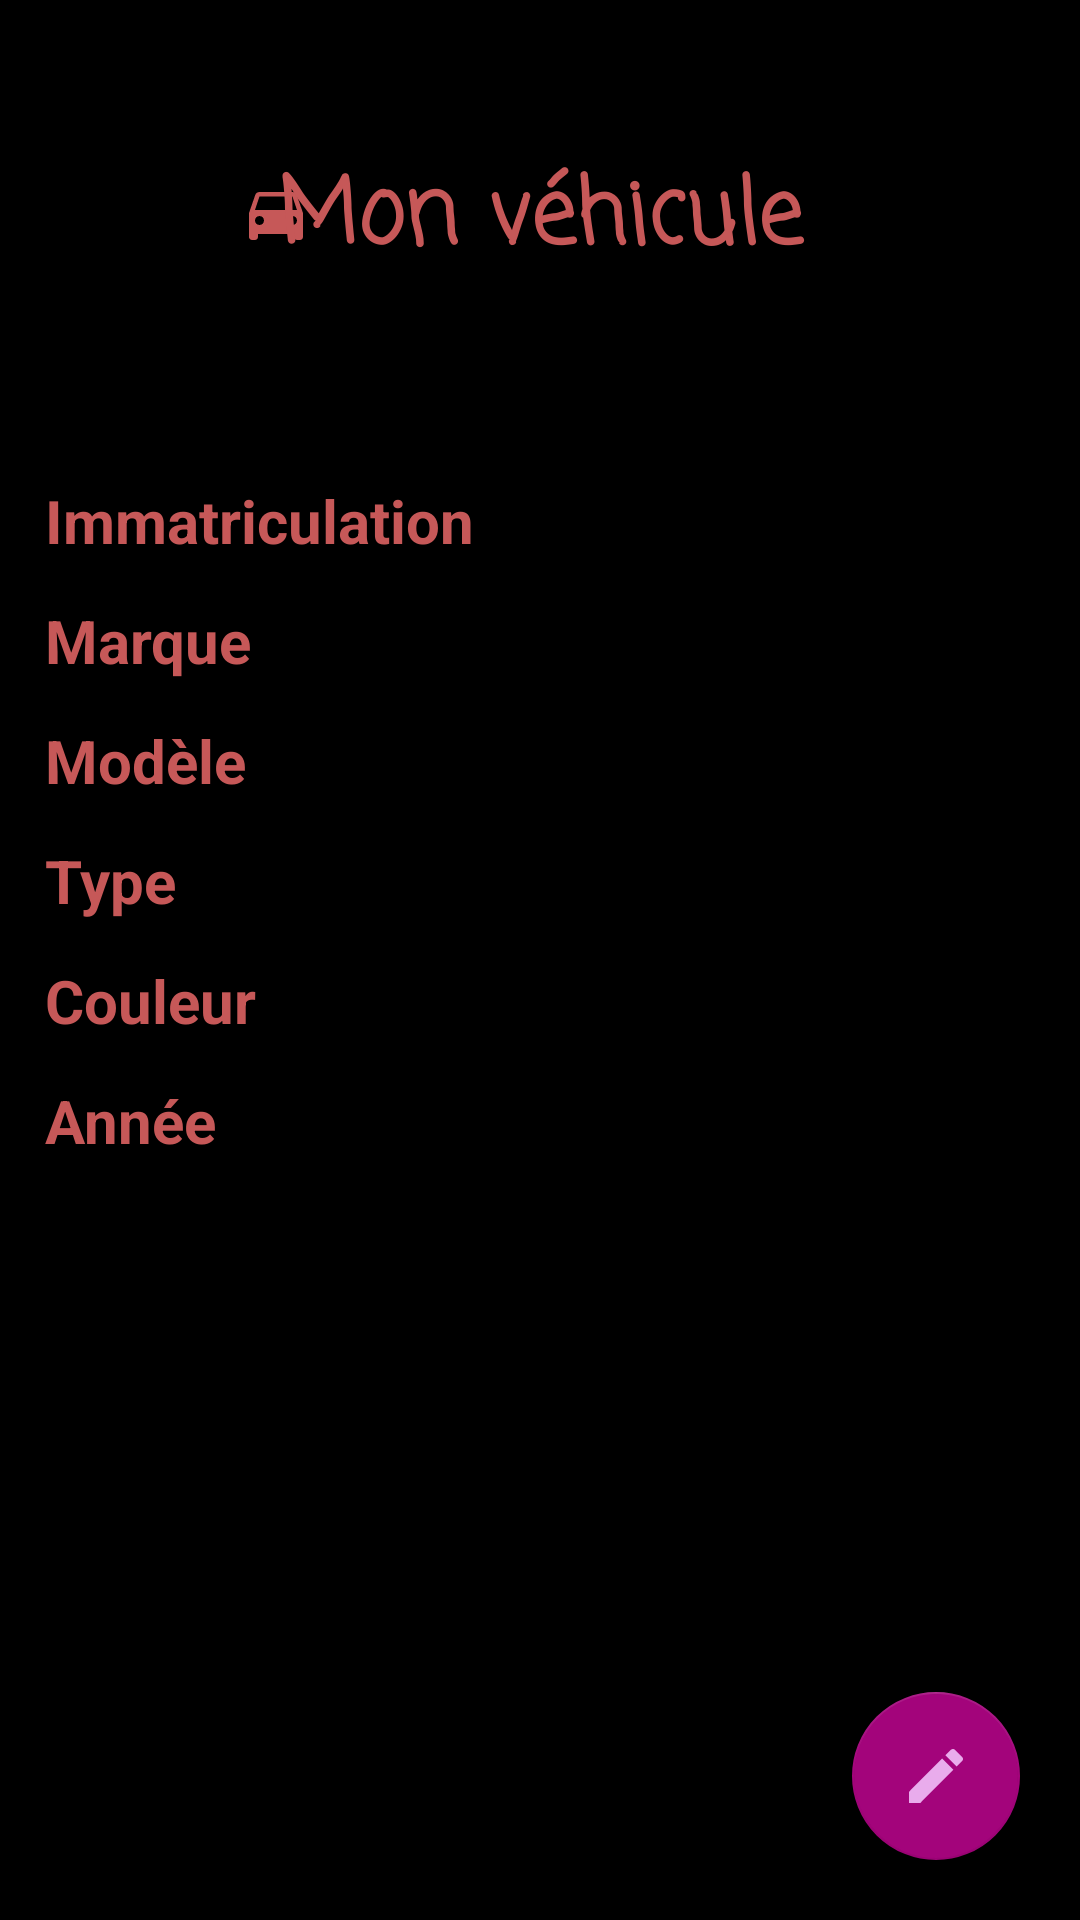

Where icons sit on this 1080px x 1920px app screen, as detection(x1, y1, x2, y2):
edit: detection(852, 1692, 1020, 1860)
